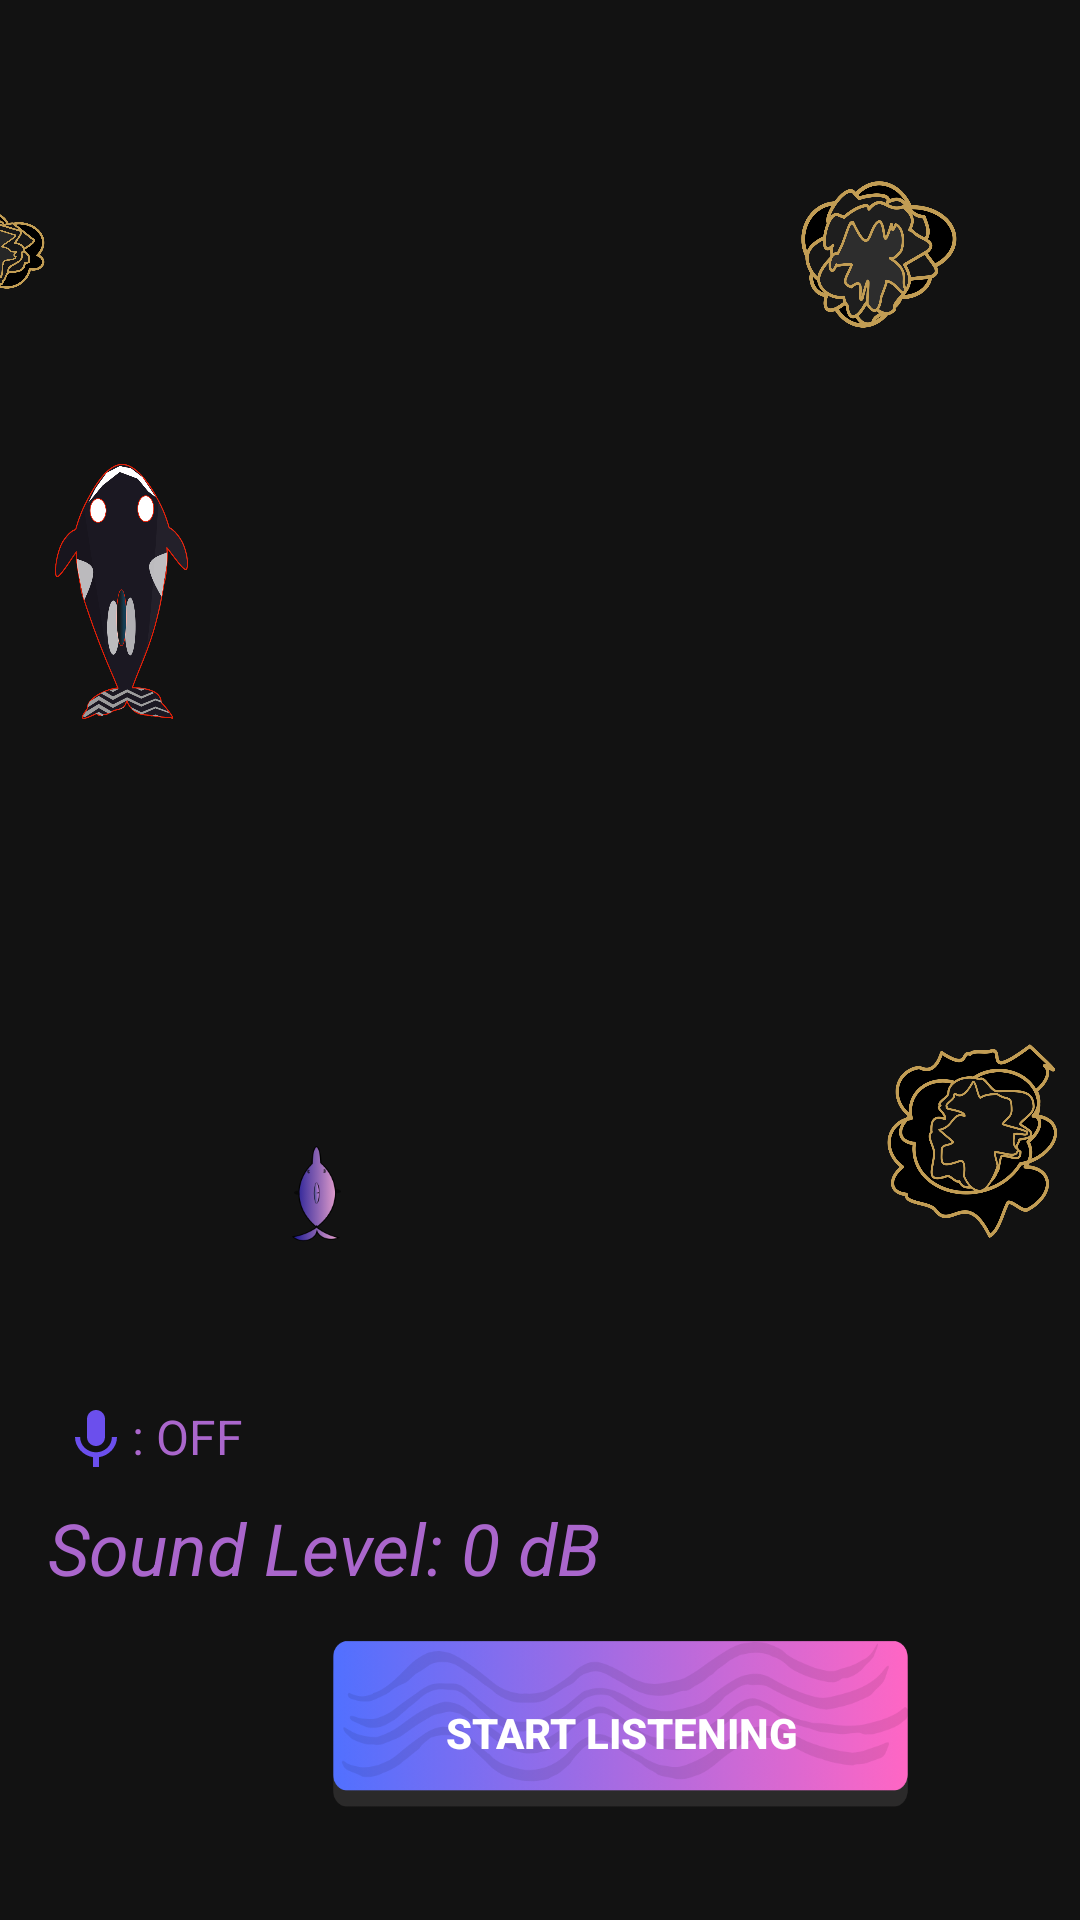

Icons on this 1080px×1920px Android screen, each with its box as (x1=x1, y1=y1, x2=x2, y2=y2):
dolphin: (x1=294, y1=1147, x2=337, y2=1240)
orca: (x1=55, y1=464, x2=188, y2=719)
